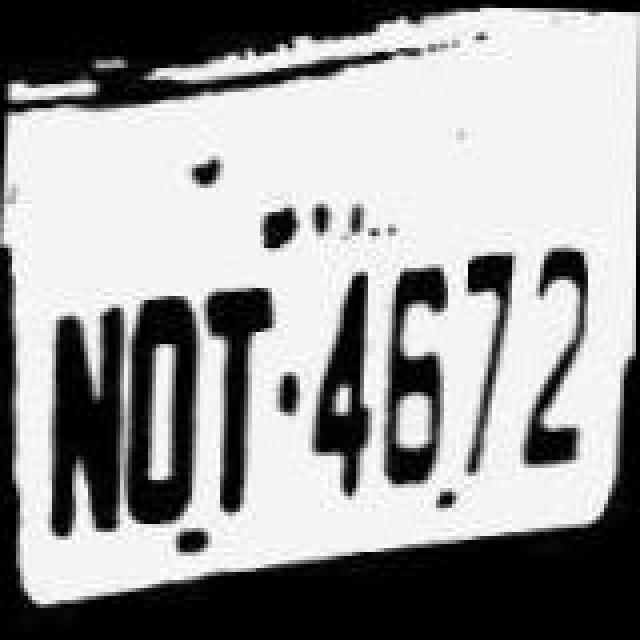2: (514, 236, 606, 468)
4: (302, 258, 390, 514)
6: (372, 260, 464, 492)
7: (444, 234, 520, 490)
N: (32, 284, 128, 548)
O: (122, 274, 210, 530)
T: (194, 274, 282, 522)
